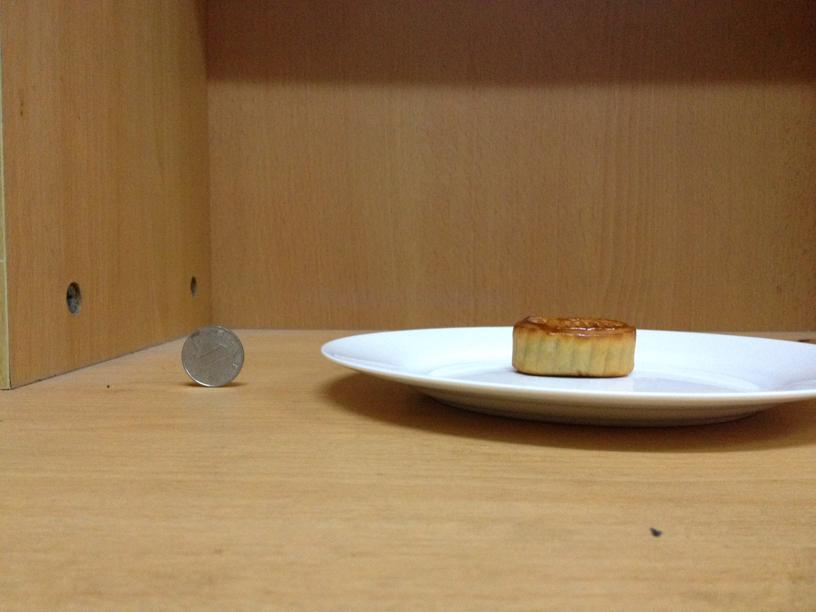coin: (180, 329, 243, 386)
mooncake: (511, 313, 637, 376)
